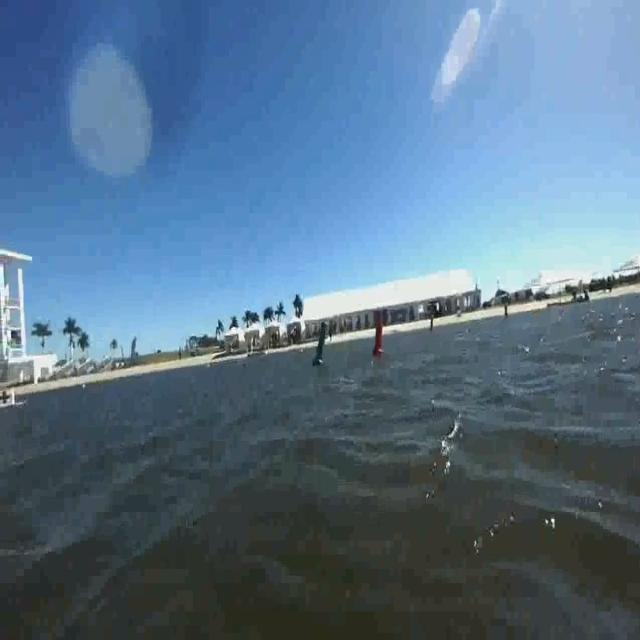green-column-buoy: (312, 322, 330, 366)
red-column-buoy: (371, 315, 386, 358)
